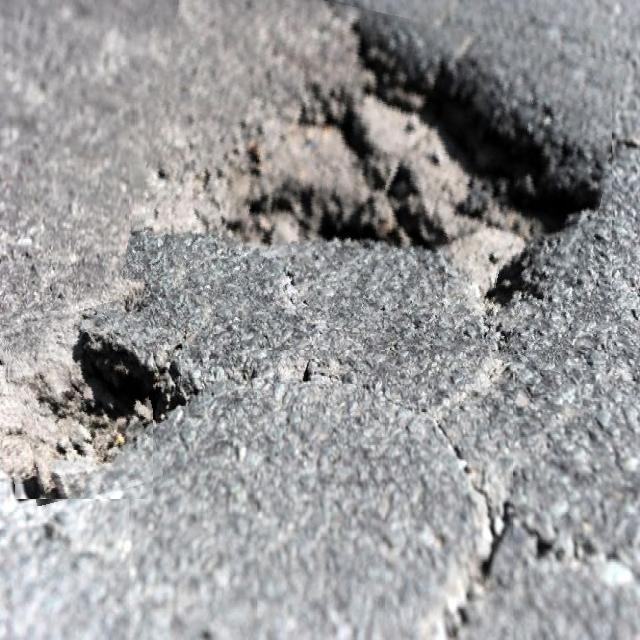Pothole: (134, 0, 612, 350), (4, 306, 153, 499)
